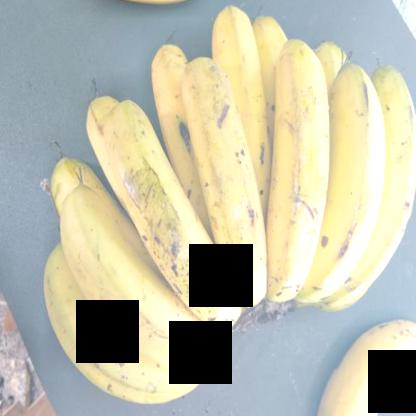freshripe: (301, 308, 415, 415), (42, 0, 200, 35)
ripe: (103, 98, 265, 332), (61, 194, 226, 375), (247, 23, 338, 307), (182, 50, 280, 302), (320, 52, 392, 314)
